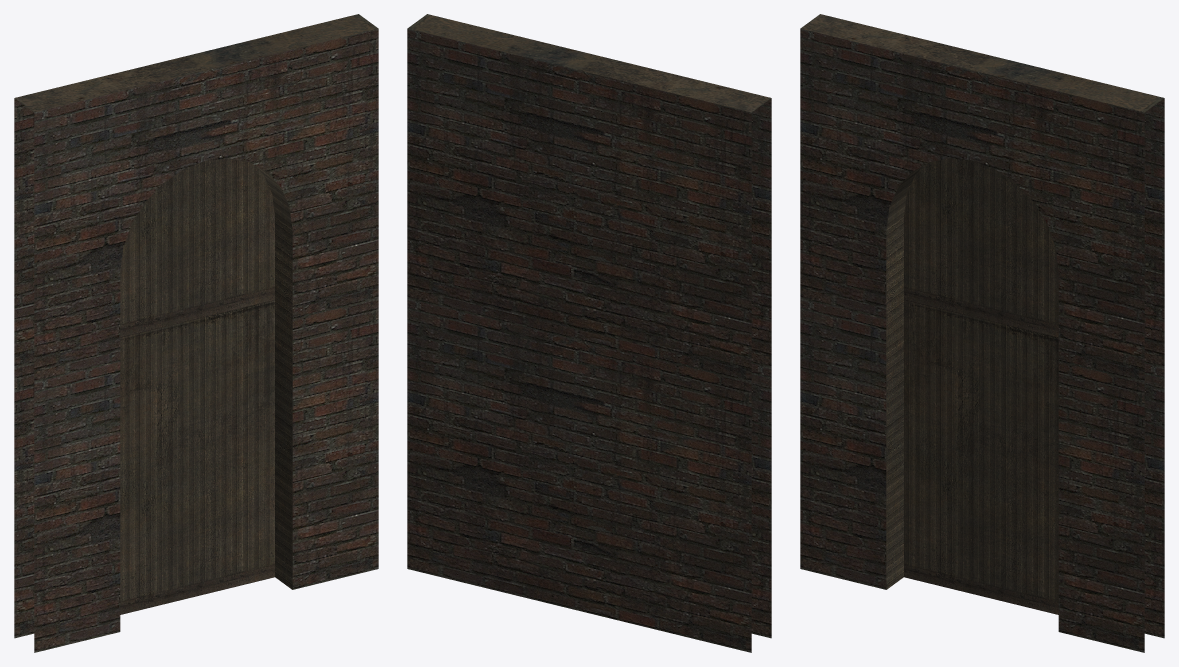
The model's file is wall_hs_15_double.obj.
3 views of the same model, side by side, from view 1: azimuth 30°, elevation 25°; view 2: azimuth 150°, elevation 25°; view 3: azimuth 330°, elevation 25° (orthographic).
Visible parts, largest first — view 1: wall_hs_15_double; view 2: wall_hs_15_double; view 3: wall_hs_15_double.
Part boxes in pixels (left/top/right/bottom): wall_hs_15_double: left=14, top=14, right=378, bottom=652; wall_hs_15_double: left=407, top=14, right=771, bottom=652; wall_hs_15_double: left=800, top=14, right=1164, bottom=652.
Bounding box in the file's own units: 4 × 6 × 0.4.
